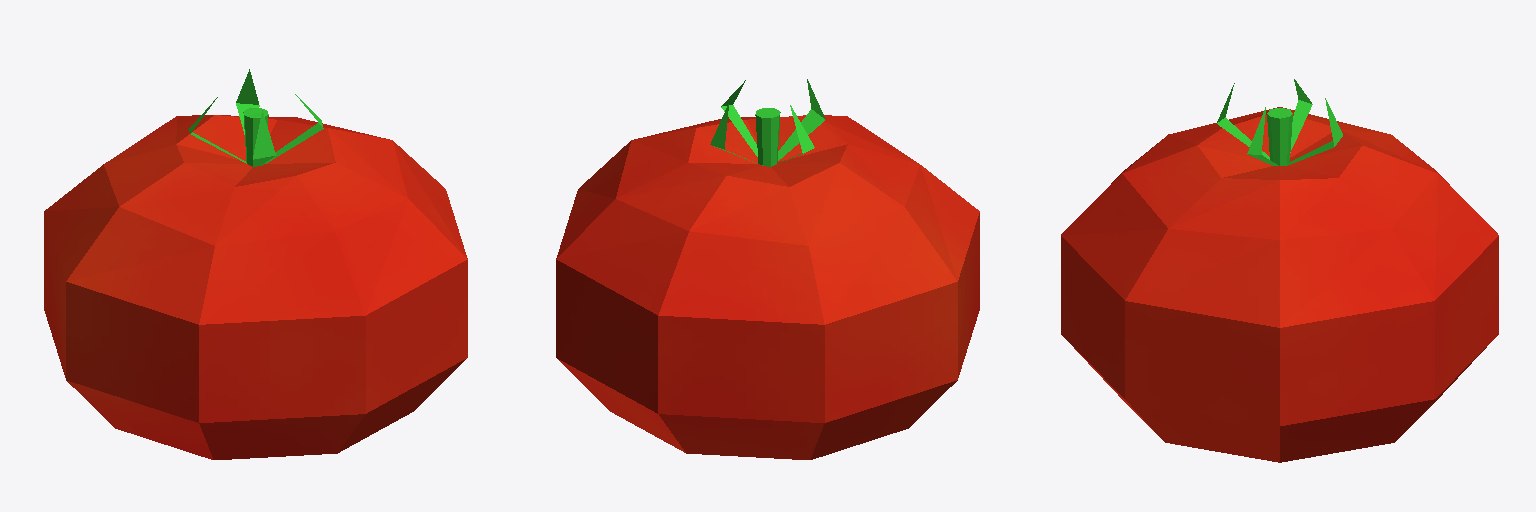
3 renders of one model, left to right at view 1: azimuth 30°, elevation 25°; view 2: azimuth 150°, elevation 25°; view 3: azimuth 270°, elevation 25°, orthographic.
Visible parts, largest first — view 1: Tomato_Tube.001; view 2: Tomato_Tube.001; view 3: Tomato_Tube.001.
Boxes of the visible parts, x1,y1,x2,y2 form: Tomato_Tube.001: [44, 69, 467, 459]; Tomato_Tube.001: [556, 79, 979, 459]; Tomato_Tube.001: [1061, 79, 1498, 462].
Bounding box in the file's own units: 0.88 × 0.7394 × 0.88.
1 materials, 1 textured.